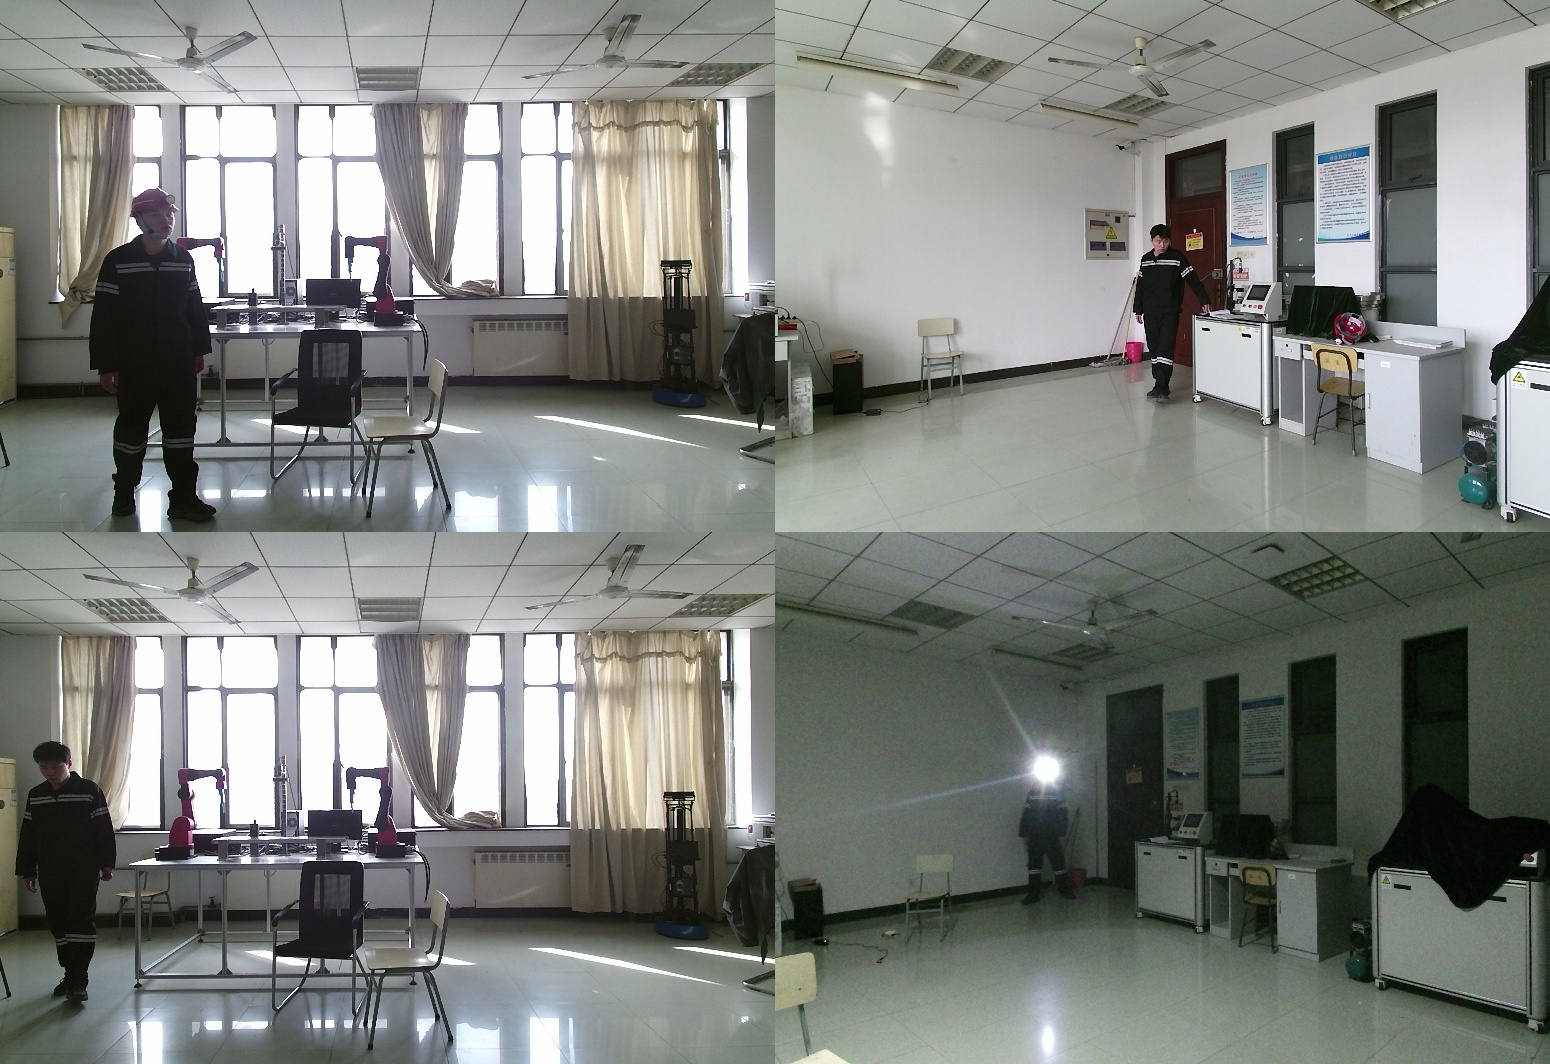person: (84, 187, 217, 532), (16, 741, 120, 997), (1137, 226, 1213, 408), (1022, 765, 1076, 904)
